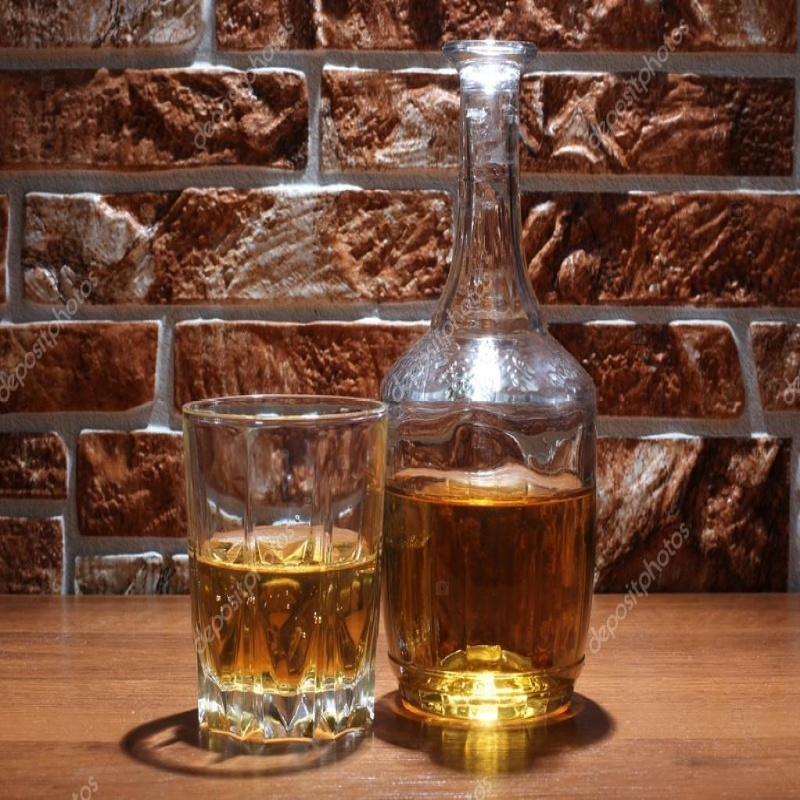whiskey: (177, 389, 388, 735)
